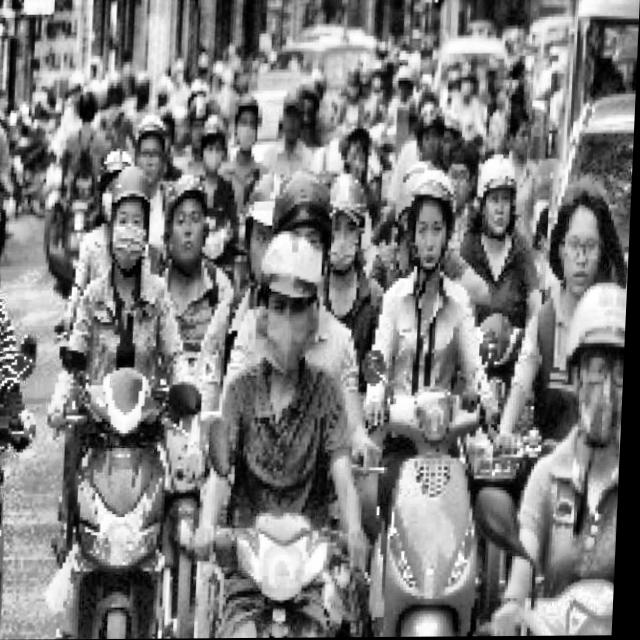motorcycle: (368, 356, 520, 638), (55, 364, 195, 640), (195, 488, 369, 639), (0, 335, 46, 640), (44, 139, 108, 294)
